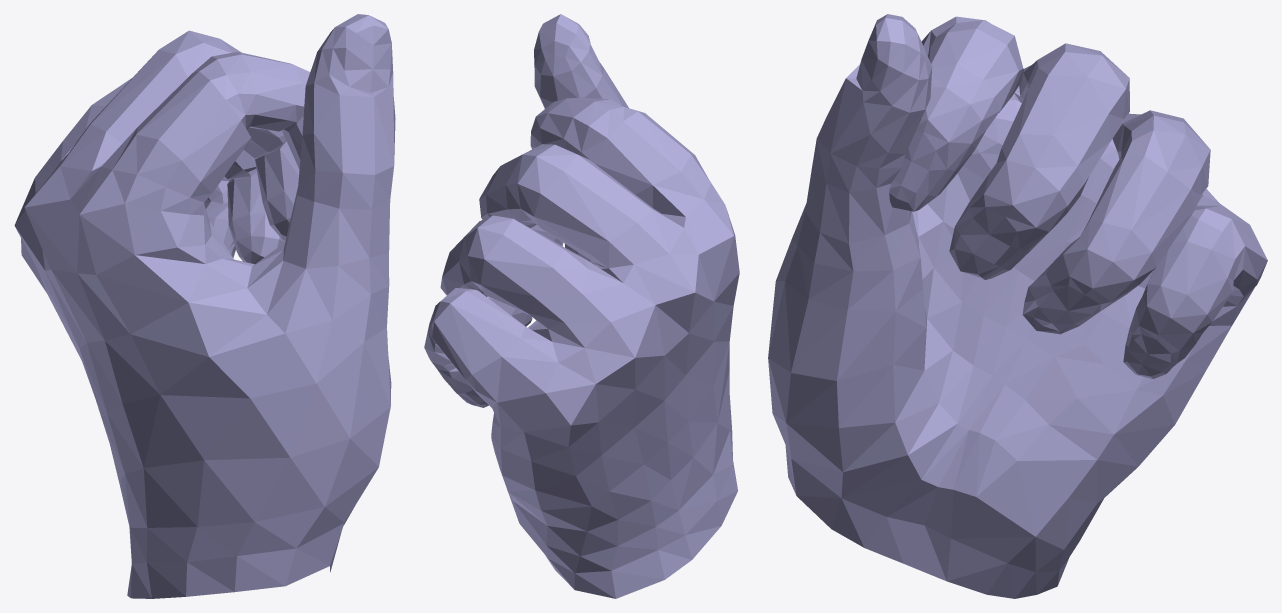
The model's file is frame_0058_source_000058_hand.glb.
The picture shows the model from 3 angles, left to right: view 1: azimuth 30°, elevation 25°; view 2: azimuth 150°, elevation 25°; view 3: azimuth 270°, elevation 25°; orthographic projection. The views are drawn at different scales.
Visible parts, largest first — view 1: world; view 2: world; view 3: world.
Boxes of the visible parts, x1,y1,x2,y2 form: world: [14, 14, 395, 598]; world: [424, 14, 739, 598]; world: [768, 14, 1267, 598].
Bounding box in the file's own units: 0.0619 × 0.1267 × 0.0926.
